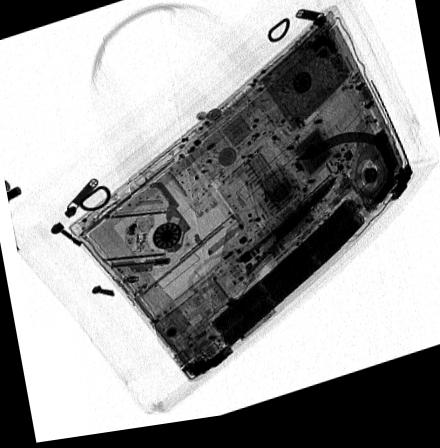Scissors: (187, 183, 338, 324)
